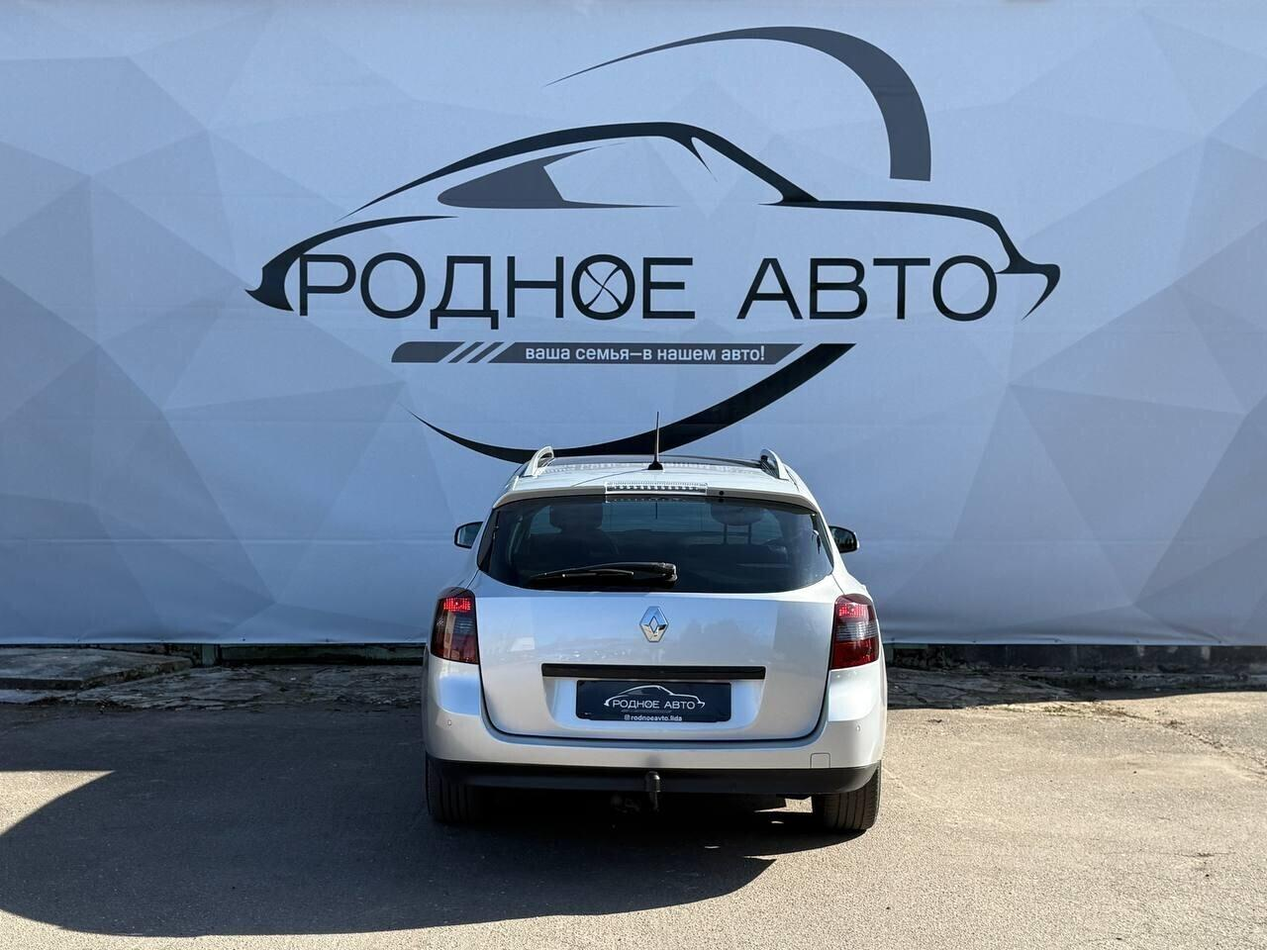Laguna_2010-2015: (424, 444, 896, 847)
